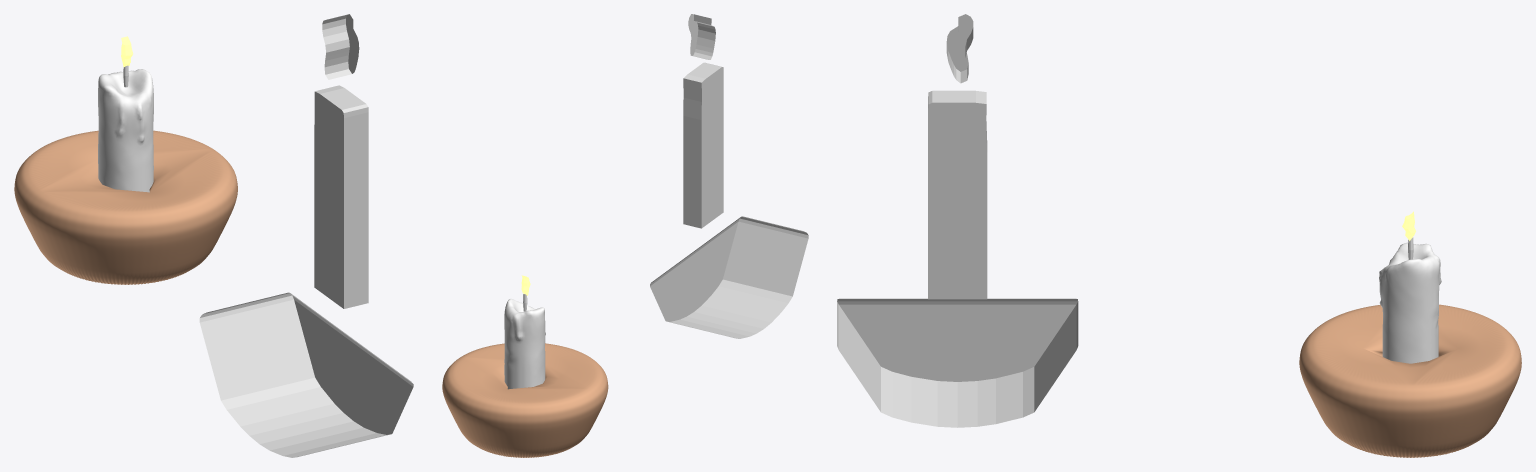
Rendered from kynttila.glb.
The picture shows the model from 3 angles, left to right: view 1: azimuth 30°, elevation 25°; view 2: azimuth 150°, elevation 25°; view 3: azimuth 270°, elevation 25°; orthographic projection. The views are drawn at different scales.
Visible parts, largest first — view 1: Cylinder.003, Curve.001, Curve.002, Curve.003; view 2: Cylinder.003, Curve.001, Curve.002, Curve.003; view 3: Cylinder.003, Curve.001, Curve.002, Curve.003.
Part boxes in pixels (x1,y1,x2,y2): Cylinder.003: (14, 36, 237, 284); Curve.001: (199, 292, 413, 457); Curve.002: (314, 85, 368, 308); Curve.003: (322, 14, 359, 79); Cylinder.003: (442, 275, 608, 457); Curve.001: (650, 216, 808, 338); Curve.002: (683, 62, 723, 228); Curve.003: (688, 14, 715, 59); Cylinder.003: (1299, 211, 1521, 457); Curve.001: (837, 298, 1078, 427); Curve.002: (928, 90, 987, 299); Curve.003: (946, 14, 973, 83).
Size of the model in its own units: 1.32 by 2.7 by 4.08.
